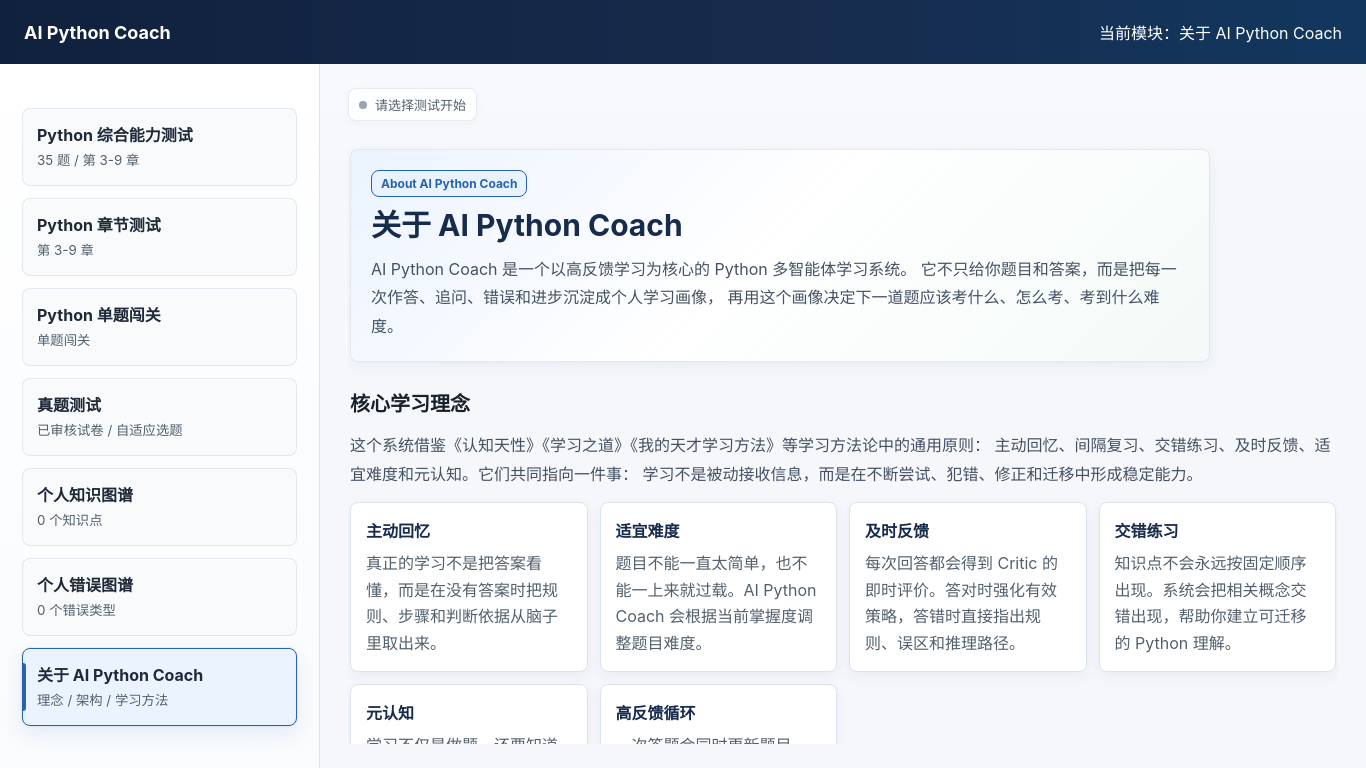
Test: LearningPage integration › returns to chapter choices when the learner clicks chapter test again
Click the button "Python 章节测试 第 3-9 章" at (160, 237), box [22,198,297,276]
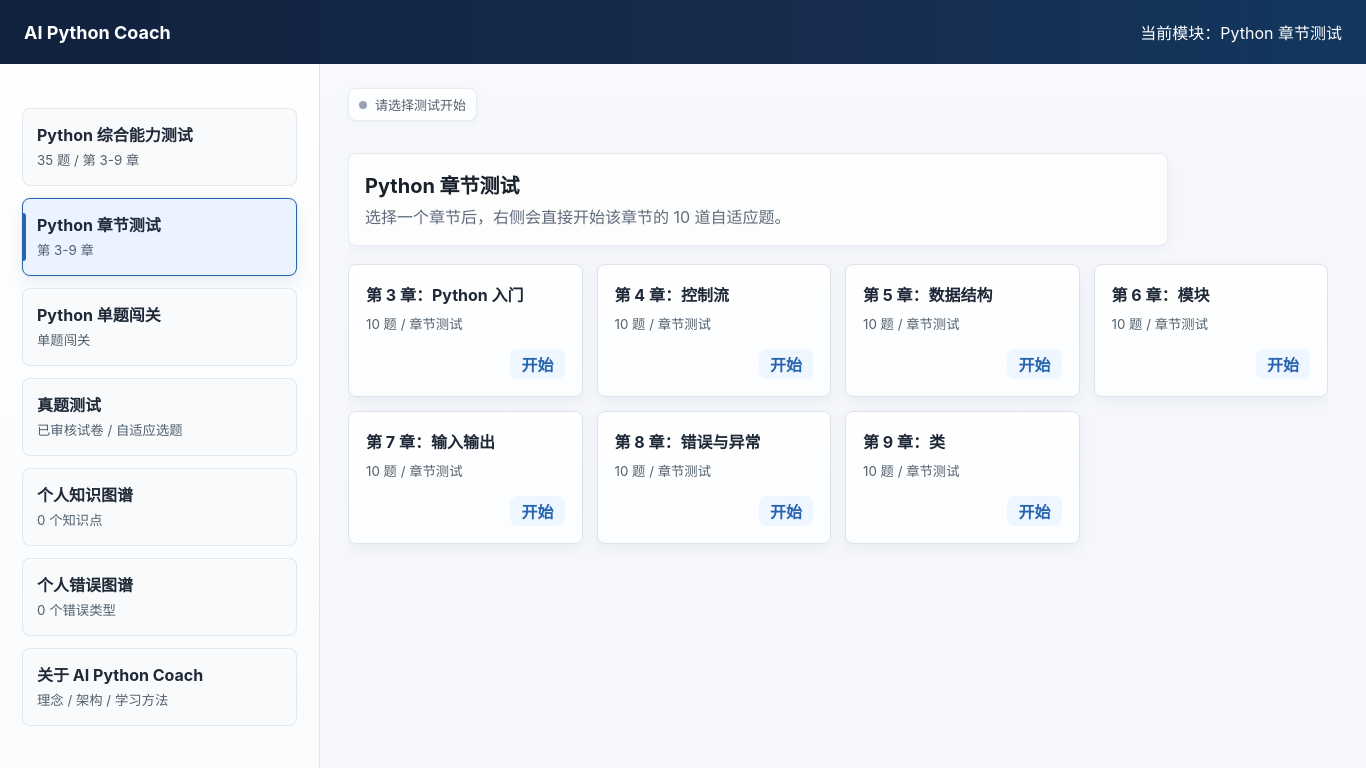
expect the button with aria-label "开始 第 4 章：控制流" is enabled: met
Click the button with aria-label "开始 第 4 章：控制流" at (786, 364), box [759,349,813,379]
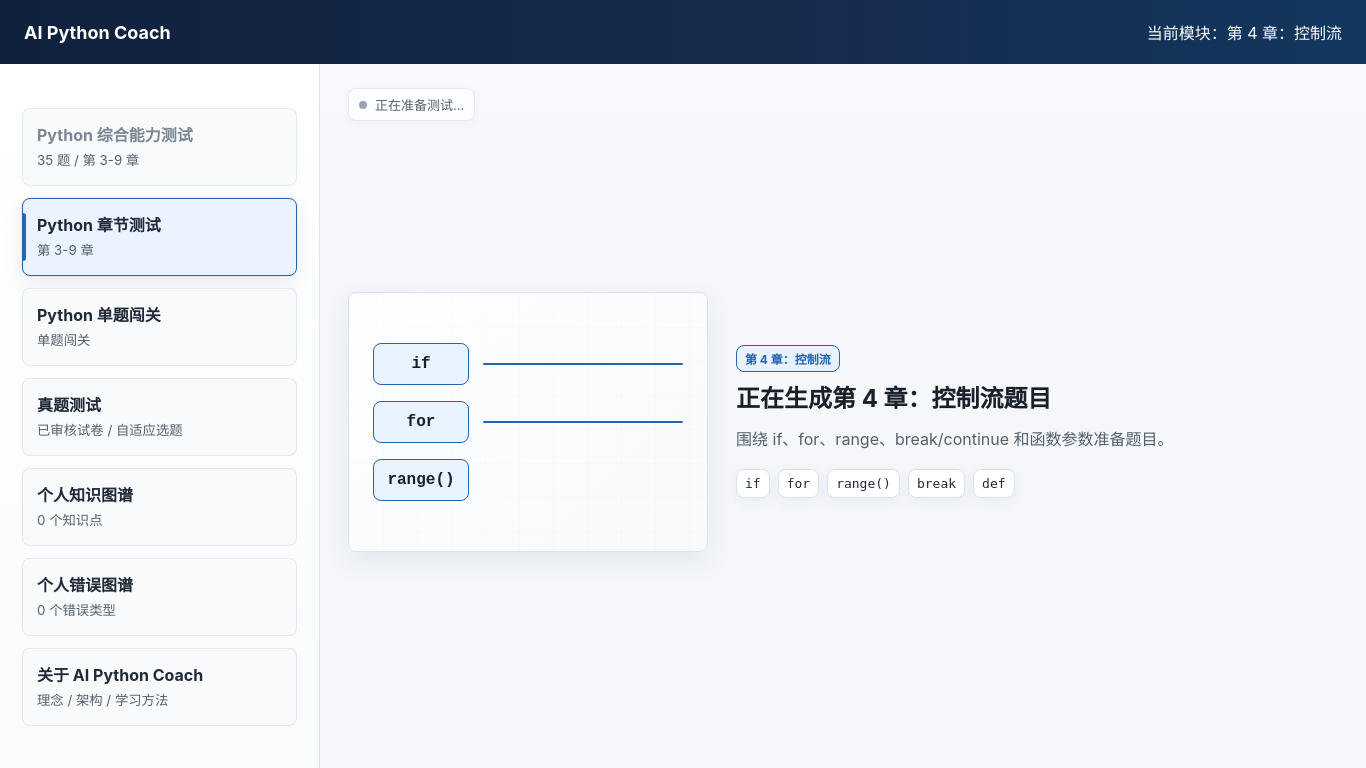
expect the text "当前模块：第 4 章：控制流" is shown: met, box [1147,20,1342,44]
Click the button "Python 章节测试 第 3-9 章" at (160, 237), box [22,198,297,276]
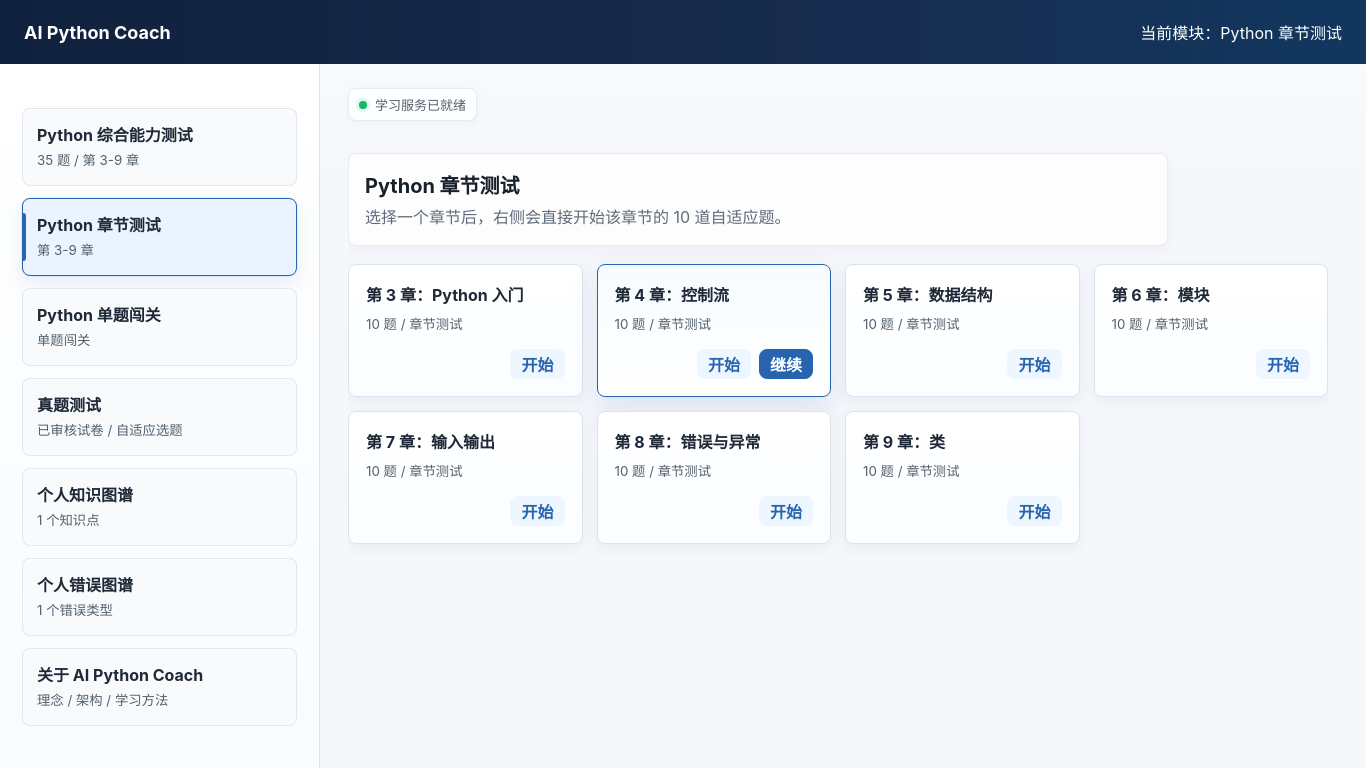
expect the button with aria-label "开始 第 5 章：数据结构" is shown: met, box [1008,349,1062,379]
